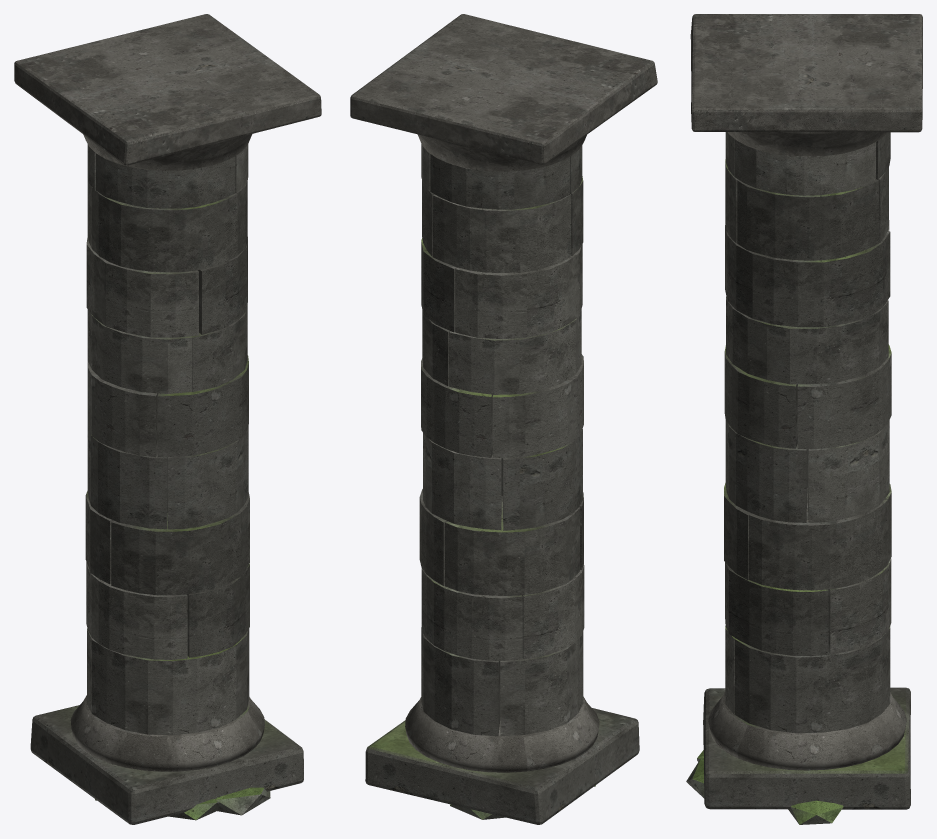
File: ER_Colonne_Blocs_Ronde_4m7.gltf
3 renders of one model, left to right at view 1: azimuth 30°, elevation 25°; view 2: azimuth 150°, elevation 25°; view 3: azimuth 270°, elevation 25°, orthographic. The views are drawn at different scales.
Parts seen in each view (by area): view 1: ER_Colonne_Blocs_Ronde_4m7_P.001, ER_Colonne_Blocs_Ronde_4m7_MOUL.001, ER_Colonne_Blocs_Ronde_4m7_PM.001; view 2: ER_Colonne_Blocs_Ronde_4m7_P.001, ER_Colonne_Blocs_Ronde_4m7_MOUL.001; view 3: ER_Colonne_Blocs_Ronde_4m7_P.001, ER_Colonne_Blocs_Ronde_4m7_MOUL.001, ER_Colonne_Blocs_Ronde_4m7_PM.001.
Part boxes in pixels (<box>): ER_Colonne_Blocs_Ronde_4m7_P.001: <box>30,144,303,824</box>; ER_Colonne_Blocs_Ronde_4m7_MOUL.001: <box>14,14,321,771</box>; ER_Colonne_Blocs_Ronde_4m7_PM.001: <box>95,787,270,820</box>; ER_Colonne_Blocs_Ronde_4m7_P.001: <box>365,144,639,824</box>; ER_Colonne_Blocs_Ronde_4m7_MOUL.001: <box>350,14,657,772</box>; ER_Colonne_Blocs_Ronde_4m7_P.001: <box>703,132,910,809</box>; ER_Colonne_Blocs_Ronde_4m7_MOUL.001: <box>690,14,922,770</box>; ER_Colonne_Blocs_Ronde_4m7_PM.001: <box>686,750,843,824</box>.
Size of the model in its own units: 1.46 by 4.8 by 1.43.
Materials: 3 (3 with a texture image).
